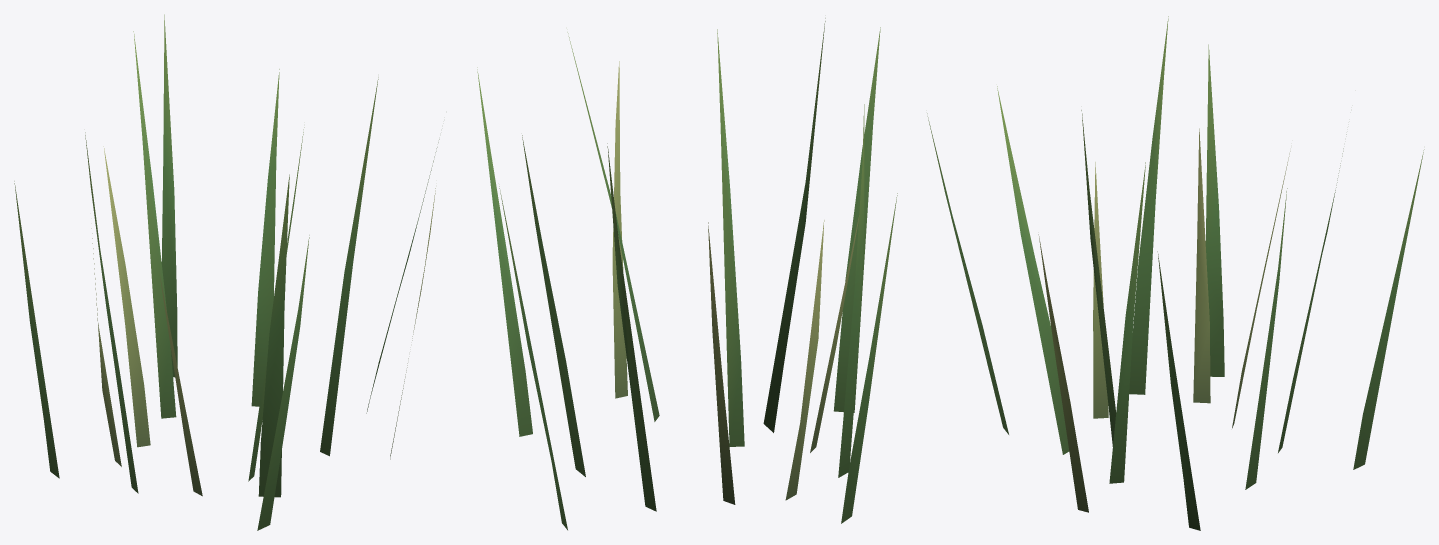
Rendered from MeadowSoft_LOD1.glb.
3 views of the same model, side by side, from view 1: azimuth 30°, elevation 25°; view 2: azimuth 150°, elevation 25°; view 3: azimuth 270°, elevation 25° (orthographic). The views are drawn at different scales.
Visible parts, largest first — view 1: MeadowSoft_LOD1; view 2: MeadowSoft_LOD1; view 3: MeadowSoft_LOD1.
Part boxes in pixels (x1,y1,x2,y2): MeadowSoft_LOD1: [14, 14, 439, 530]; MeadowSoft_LOD1: [477, 18, 897, 530]; MeadowSoft_LOD1: [927, 16, 1424, 530].
Size of the model in its own units: 0.3275 by 0.2807 by 0.3423.
